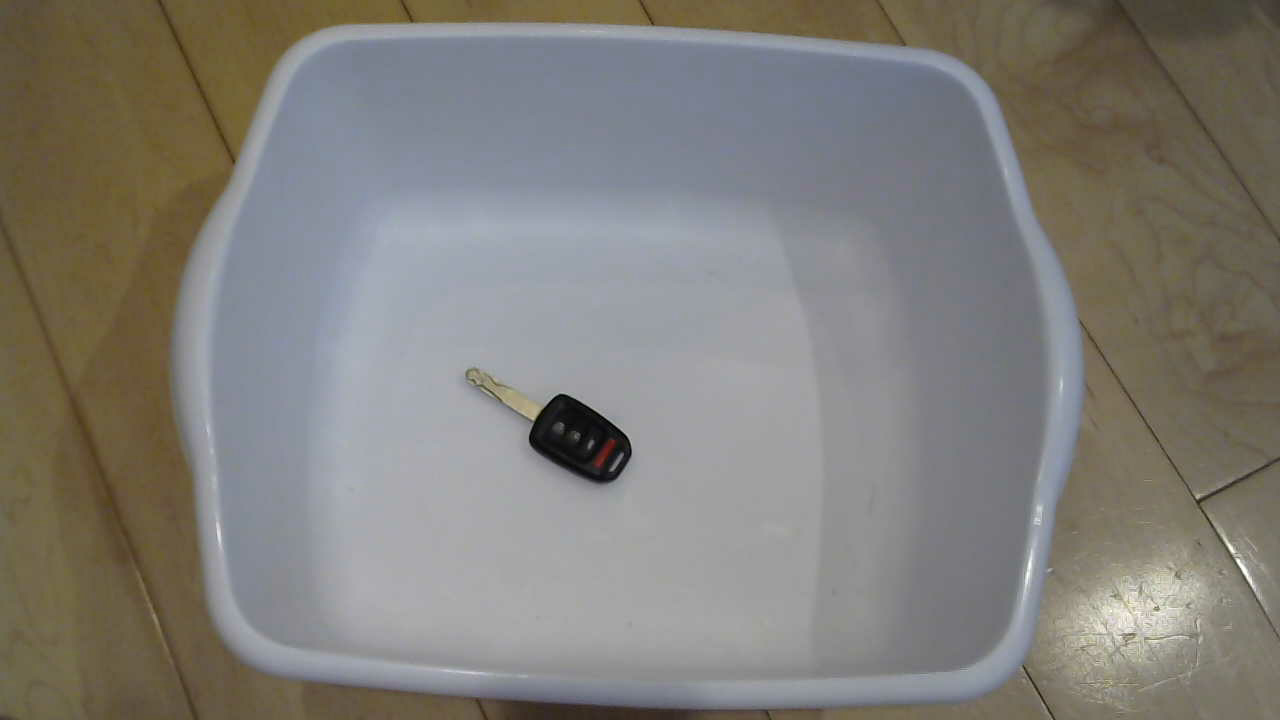key: (452, 364, 661, 490)
